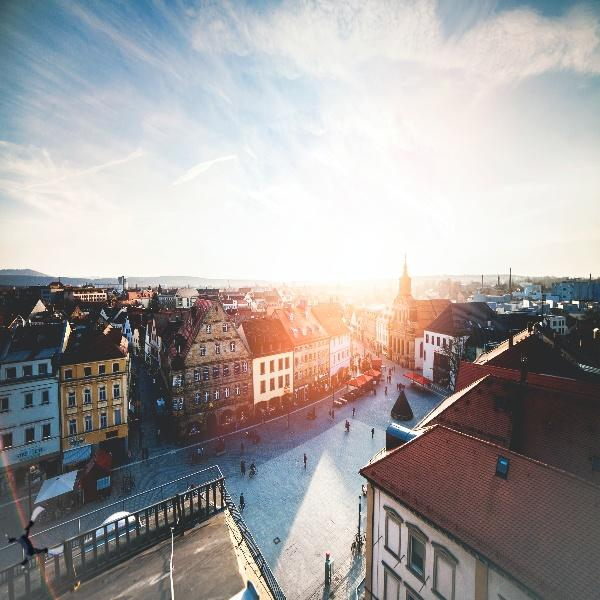drone: (4, 511, 65, 572)
